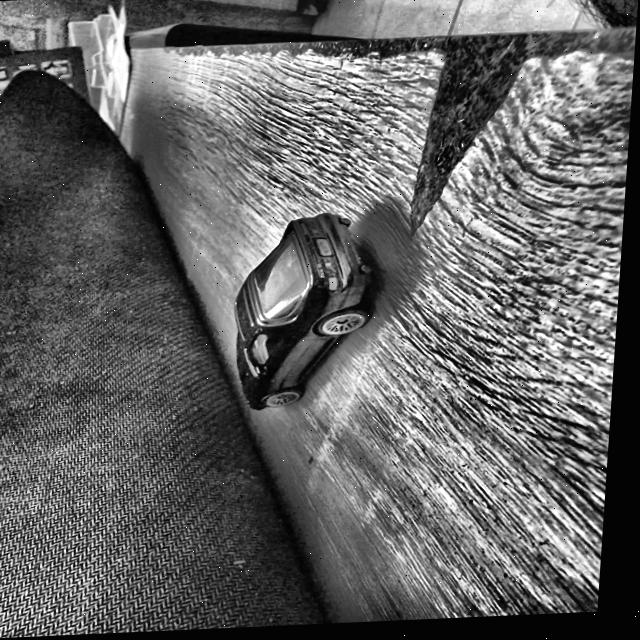car: (232, 213, 383, 414)
